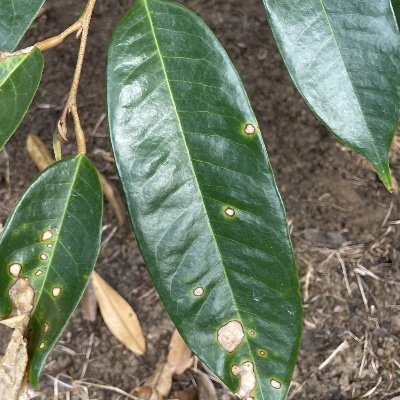Leaf_Phomopsis: (104, 0, 305, 400)
